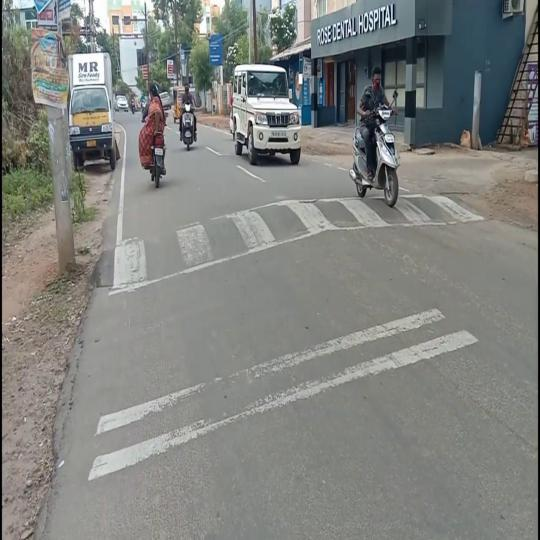Speed Bump: (94, 197, 384, 289), (399, 193, 482, 225)
